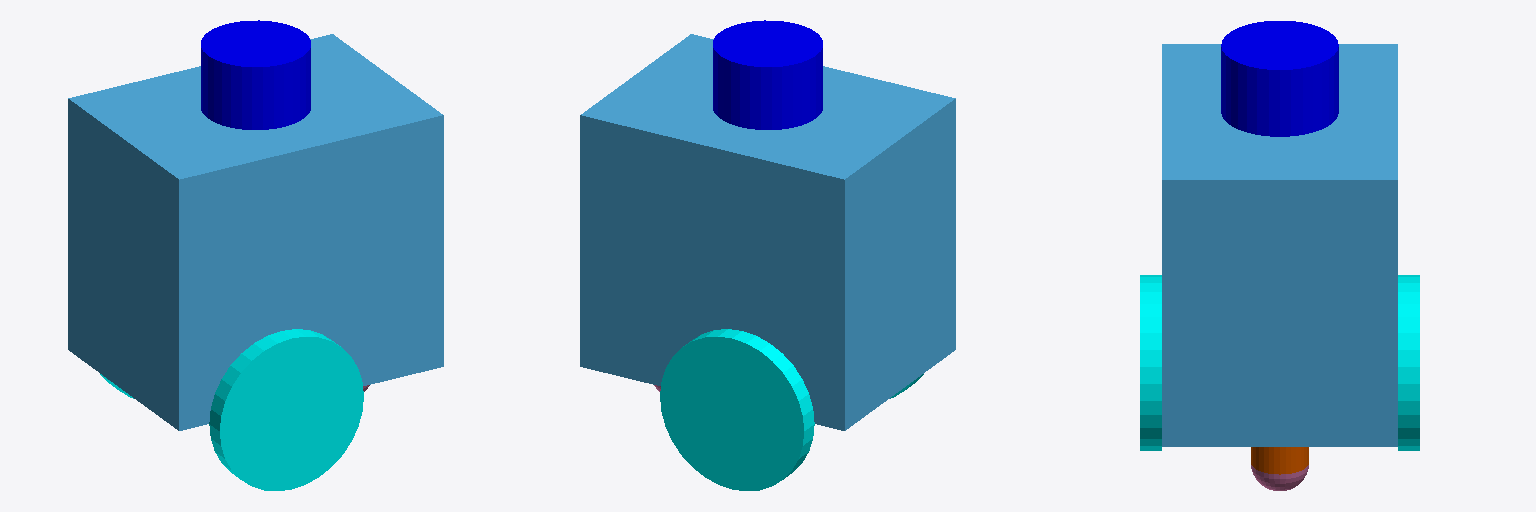
The robot description file, URDF, robot "two_wheeled_robot":
<?xml version="1.0"?>
<robot name="two_wheeled_robot">
  <!-- Base Footprint Link -->
  <link name="base_footprint">
    <inertial>
      <origin xyz="0 0 0" rpy="0 0 0"/>
      <mass value="0.001"/>
      <inertia ixx="0.0000001" ixy="0" ixz="0" iyy="0.0000001" iyz="0" izz="0.0000001"/>
    </inertial>
  </link>
  <!-- Base Link -->
  <link name="base_link">
    <visual>
      <geometry>
        <box size="0.11 0.08 0.1"/>
      <material name="blue">
        <color rgba="0 0 1 1"/>
      </material>
      </geometry>
    </visual>
    <collision>
      <geometry>
        <box size="0.11 0.08 0.1"/>
      </geometry>
    </collision>
    <inertial>
      <mass value="1"/>
      <inertia ixx="0.001" ixy="0.0" ixz="0.0" iyy="0.001" iyz="0.0" izz="0.001"/>
    </inertial>
  </link>
  <!-- LIDAR Link -->
  <link name="lidar">
    <visual>
      <geometry>
        <cylinder radius="0.02" length="0.025"/>
      </geometry>
      <origin rpy="0 0 0" xyz="0 0 0"/>
      <material name="blue">
        <color rgba="0 0 1 1"/>
      </material>
    </visual>
    <collision>
      <geometry>
        <cylinder radius="0.02" length="0.025"/>
      </geometry>
    </collision>
    <inertial>
      <mass value="0.1"/>
      <inertia ixx="0.0001" ixy="0.0" ixz="0.0" iyy="0.0001" iyz="0.0" izz="0.0001"/>
    </inertial>
  </link>
  <!-- Wheel Links -->
  <link name="left_wheel">
    <visual>
      <geometry>
        <cylinder radius="0.03" length="0.0075"/>
      </geometry>
      <material name="cyan">
        <color rgba="0 1 1 1"/>
      </material>
    </visual>
    <collision>
      <geometry>
        <cylinder radius="0.03" length="0.0075"/>
      </geometry>
    </collision>
    <inertial>
      <mass value="0.1"/>
      <inertia ixx="0.000045" ixy="0.0" ixz="0.0" iyy="0.000045" iyz="0.0" izz="0.000045"/>
    </inertial>
  </link>
  <link name="right_wheel">
    <visual>
      <geometry>
        <cylinder radius="0.03" length="0.0075"/>
      </geometry>
      <material name="cyan">
        <color rgba="0 1 1 1"/>
      </material>
    </visual>
    <collision>
      <geometry>
        <cylinder radius="0.03" length="0.075"/>
      </geometry>
    </collision>
    <inertial>
      <mass value="0.1"/>
      <inertia ixx="0.000045" ixy="0.0" ixz="0.0" iyy="0.000045" iyz="0.0" izz="0.000045"/>
    </inertial>
  </link>
  <!--Caster Cylinder Link-->
  <link name="caster_cylinder">
    <visual>
      <geometry>
        <cylinder radius="0.01" length="0.025"/>
      </geometry>
    </visual>
    <collision>
      <geometry>
        <cylinder radius="0.01" length="0.025"/>
      </geometry>
    </collision>
    <inertial>
      <mass value="0.05"/>
       <inertia ixx="0.0000025" ixy="0.0" ixz="0.0" iyy="0.0000025" iyz="0.0" izz="0.0000025"/>
    </inertial>
  </link>
  <!-- Caster Link -->
  <link name="caster">
    <visual>
      <geometry>
        <sphere radius="0.01"/>
      </geometry>
    </visual>
    <collision>
      <geometry>
        <sphere radius="0.01"/>
      </geometry>
    </collision>
    <inertial>
      <mass value="0.05"/>
      <inertia ixx="0.000002" ixy="0.0" ixz="0.0" iyy="0.000002" iyz="0.0" izz="0.000002"/>
    </inertial>
  </link>
  <!-- Joint Definitions -->
  <!-- Base Footprint Joint -->
  <joint name="base_footprint_joint" type="fixed">
    <parent link="base_footprint"/>
    <child link="base_link"/>
    <origin xyz="0 0 0" rpy="0 0 0"/>
  </joint>
  <!-- LIDAR Joint -->
  <joint name="lidar_joint" type="fixed">
    <parent link="base_link"/>
    <child link="lidar"/>
    <origin xyz="0 0 0.0625" rpy="0 0 0"/>
  </joint>
  <!-- Wheels Joint -->
  <joint name="left_wheel_joint" type="continuous">
    <parent link="base_link"/>
    <child link="left_wheel"/>
    <origin xyz="-0.0125 -0.04375 -0.05" rpy="1.57075 0 0"/>
    <axis xyz="0 0 -1"/>
  </joint>
  <joint name="right_wheel_joint" type="continuous">
    <parent link="base_link"/>
    <child link="right_wheel"/>
    <origin xyz="-0.0125 0.04375 -0.05" rpy="1.57075 0 0"/>
    <axis xyz="0 0 -1"/>
  </joint>
  <!-- Cylinder Caster Joint -->
  <joint name="cylinder_joint" type="fixed">
    <parent link="base_link"/>
    <child link="caster_cylinder"/>
    <origin xyz="0.0375 0 -0.05125" rpy="0 0 0"/>
    <axis xyz="0 1 0"/>
  </joint>
  <joint name="caster_joint" type="revolute">
    <parent link="caster_cylinder"/>
    <child link="caster"/>
    <origin xyz="0 0 -0.0125" rpy="0 0 0"/>
    <axis xyz="0 1 0"/>
    <limit lower="-3.14159" upper="3.14159" effort="0.0" velocity="0.0"/>
  </joint>
  <!-- Gazebo plugin for differential drive -->
  <gazebo>
    <plugin name="diff_drive" filename="libgazebo_ros_diff_drive.so">
      <legacy_mode>false</legacy_mode>
      <always_on>true</always_on>
      <left_joint>left_wheel_joint</left_joint>
      <right_joint>right_wheel_joint</right_joint>
      <wheel_separation>0.0875</wheel_separation>
      <wheel_diameter>0.06</wheel_diameter>
      <torque>0.5</torque>
      <!-- output -->
      <publish_odom>true</publish_odom>
      <publish_odom_tf>false</publish_odom_tf>
      <publish_wheel_tf>false</publish_wheel_tf>
      <command_topic>cmd_vel</command_topic>
      <odometry_topic>odom</odometry_topic>
      <odometry_frame>odom</odometry_frame>
      <robot_base_frame>base_footprint</robot_base_frame>
    </plugin>
  </gazebo>
  <!-- Gazebo plugin for RPLIDAR A1 -->
  <gazebo reference="lidar">
    <sensor type="ray" name="head">
      <pose>0 0 0 0 0 0</pose>
      <visualize>true</visualize>
      <update_rate>10</update_rate>
      <ray>
        <scan>
          <horizontal>
            <samples>360</samples>
            <resolution>1</resolution>
            <min_angle>0</min_angle>
            <max_angle>6.28319</max_angle>
          </horizontal>
        </scan>
        <range>
          <min>0.12</min>
          <max>3.5</max>
          <resolution>0.01</resolution>
        </range>
        <noise>
          <type>gaussian</type>
          <mean>0.0</mean>
          <stddev>0.01</stddev>
        </noise>
      </ray>
      <plugin name="gazebo_ros_head" filename="libgazebo_ros_ray_sensor.so">
        <topicName>/scan</topicName>
        <frameName>lidar</frameName>
      </plugin>
    </sensor>
  </gazebo>
</robot>

--- What the picture shows (computed from the rendered views, not written in the file) ---
Views: 3 orthographic renders of the robot side by side, from view 1: azimuth 30°, elevation 25°; view 2: azimuth 150°, elevation 25°; view 3: azimuth 270°, elevation 25°.
Model two_wheeled_robot with 7 links and 6 joints (1 revolute, 2 continuous, 3 fixed), rooted at base_footprint, posed every joint at zero.
Links seen in each view (by area): view 1: base_link, left_wheel, lidar; view 2: base_link, right_wheel, lidar; view 3: base_link, lidar, left_wheel, right_wheel, caster_cylinder, caster.
Boxes of the visible links, <box> form: base_link: <box>68,34,443,430</box>; left_wheel: <box>209,329,363,490</box>; lidar: <box>201,20,310,129</box>; base_link: <box>580,34,955,430</box>; right_wheel: <box>660,329,814,490</box>; lidar: <box>713,20,822,129</box>; base_link: <box>1162,44,1397,446</box>; lidar: <box>1221,21,1338,136</box>; left_wheel: <box>1140,275,1161,450</box>; right_wheel: <box>1398,275,1419,450</box>; caster_cylinder: <box>1251,447,1308,474</box>; caster: <box>1251,465,1308,490</box>.
Size in the robot's own frame: 0.11 by 0.095 by 0.155 metres.
Geometry: primitives only (box / cylinder / sphere), no mesh files.
